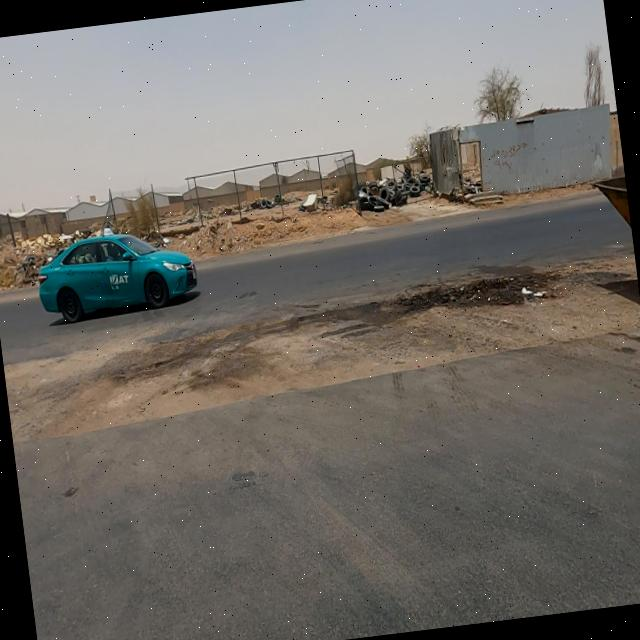Graffiti: (490, 142, 531, 172)
